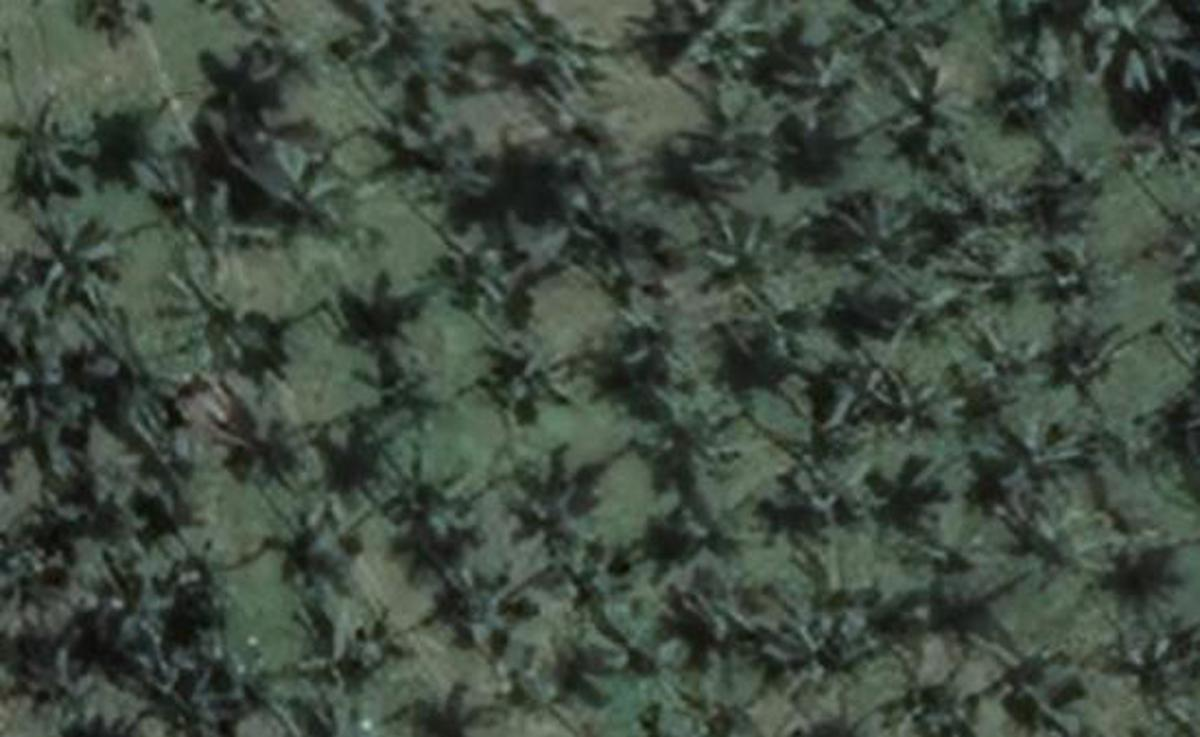coconut: (229, 124, 365, 249), (476, 0, 601, 120), (251, 481, 375, 601), (631, 389, 751, 513), (480, 446, 607, 559), (378, 80, 496, 201), (572, 588, 692, 704), (378, 439, 502, 551), (133, 170, 249, 288), (594, 273, 708, 391), (472, 314, 587, 430), (979, 408, 1108, 511), (93, 459, 205, 577), (762, 597, 874, 715), (773, 433, 887, 548), (865, 255, 979, 369), (424, 225, 539, 338), (553, 166, 664, 282), (1092, 603, 1200, 721), (290, 603, 408, 710), (343, 330, 456, 441), (159, 264, 275, 371), (214, 382, 321, 496), (229, 0, 347, 102), (688, 78, 795, 190), (681, 201, 795, 306), (1075, 0, 1193, 98), (428, 548, 535, 653), (1092, 505, 1193, 616), (85, 378, 196, 478), (1029, 214, 1134, 319), (144, 638, 255, 737), (0, 325, 96, 433), (0, 98, 98, 203), (883, 54, 974, 164), (28, 214, 137, 303), (8, 634, 102, 737), (1042, 312, 1134, 417), (93, 566, 194, 658), (0, 507, 96, 603), (1003, 505, 1108, 592), (959, 312, 1051, 411), (1014, 129, 1116, 218), (334, 0, 439, 85), (651, 0, 765, 78), (837, 0, 953, 76), (896, 651, 998, 737), (1114, 96, 1200, 194), (810, 352, 909, 437), (998, 21, 1088, 109), (1003, 640, 1081, 737), (874, 354, 953, 446), (487, 640, 572, 719), (832, 192, 913, 268)
